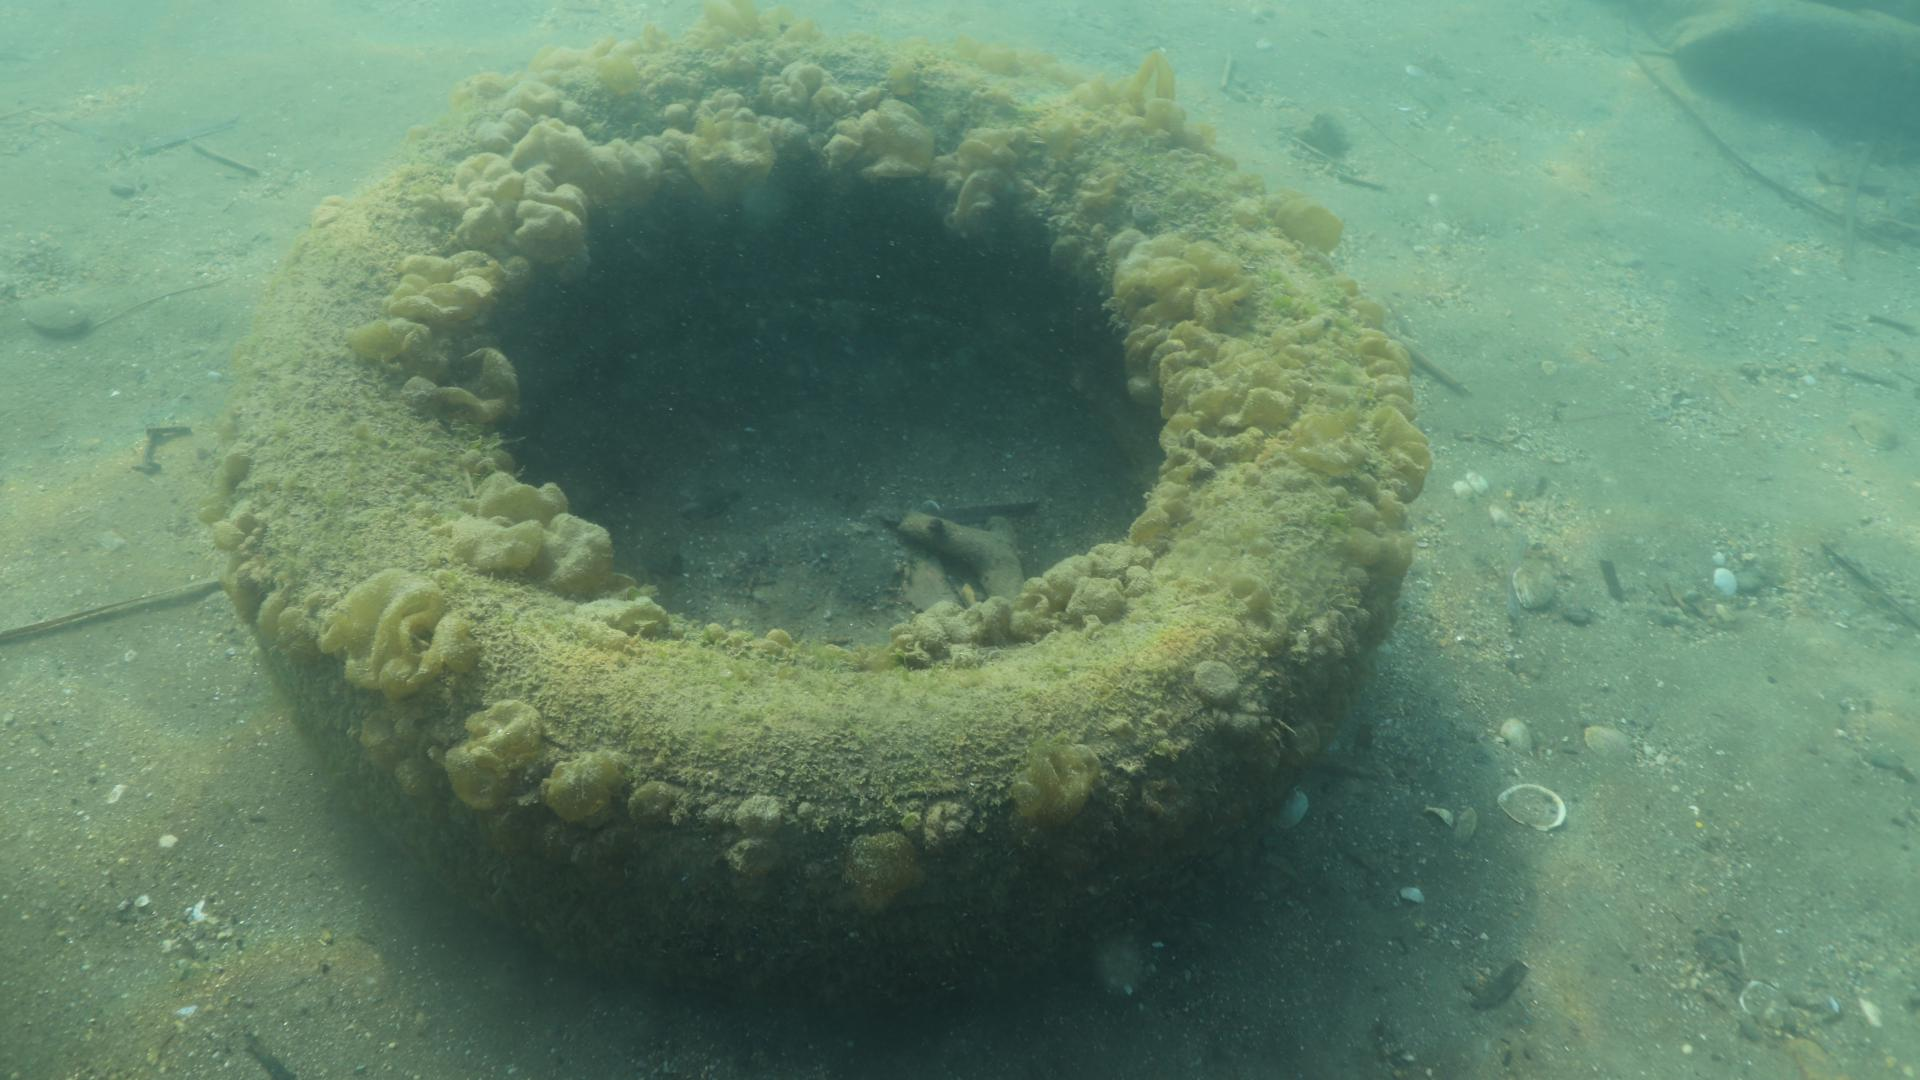tire: (237, 40, 1407, 976)
